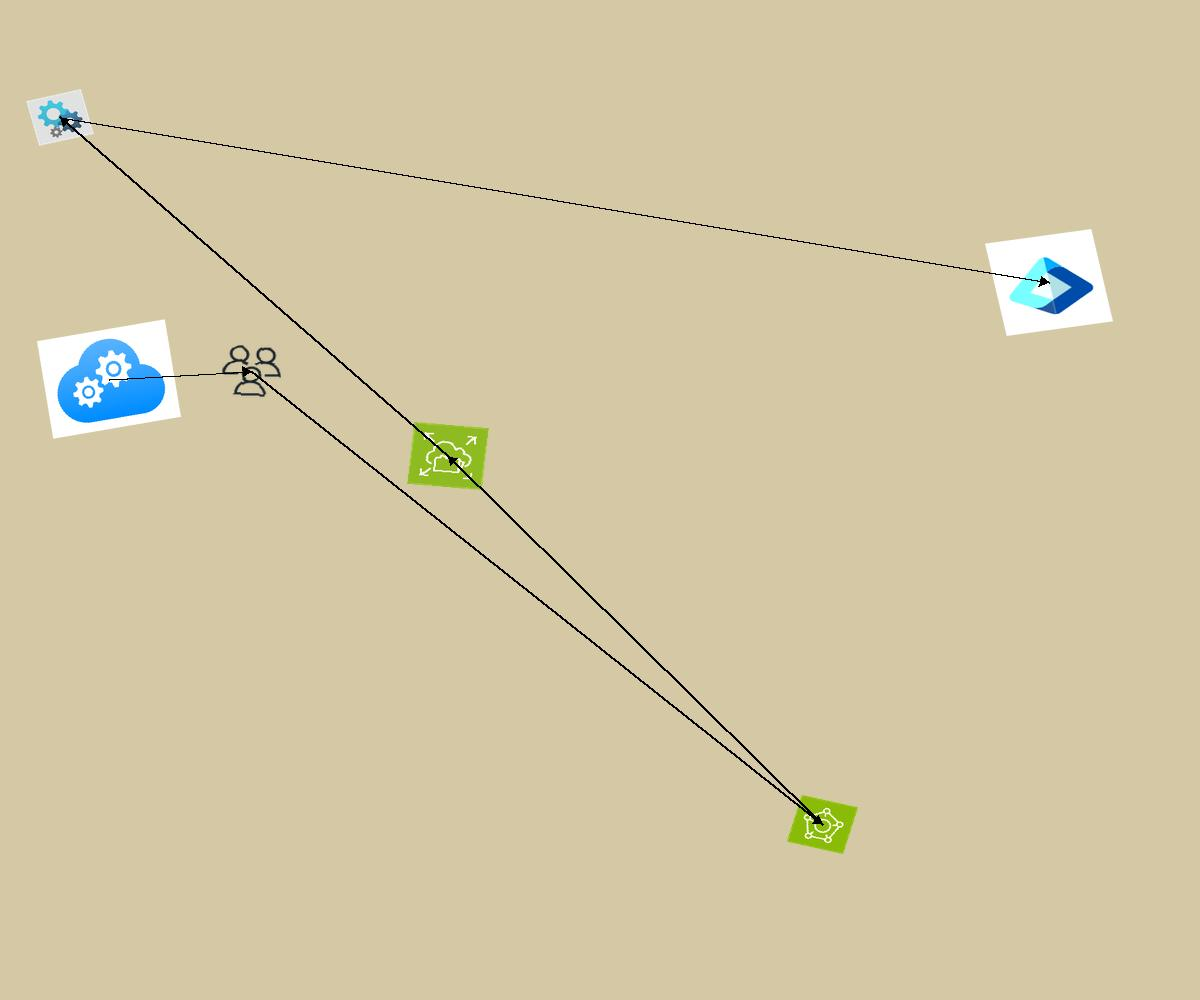AWS-Backup: (787, 795, 858, 854)
AWS-EFS: (407, 422, 489, 490)
AWS-Res_Users: (217, 342, 286, 400)
Azure_api: (26, 89, 94, 146)
Azure_cloud_services: (37, 319, 181, 439)
Azure_microsoft_entra: (985, 229, 1113, 336)
